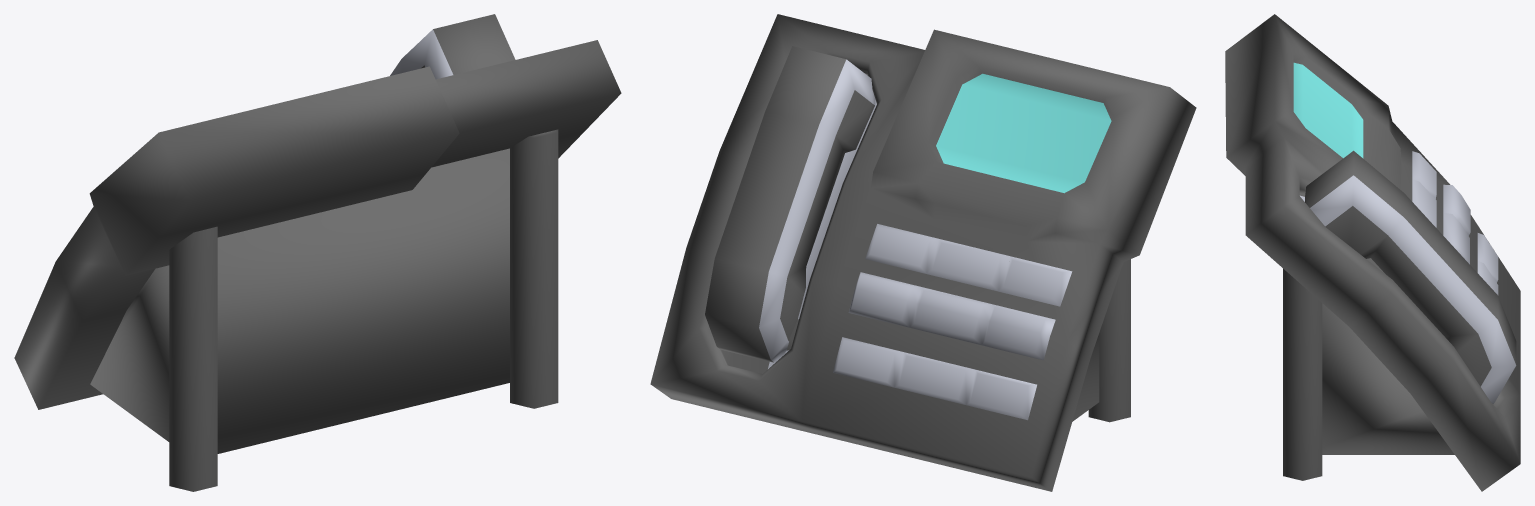
File: phone_01.glb
3 views of the same model, side by side, from view 1: azimuth 30°, elevation 25°; view 2: azimuth 150°, elevation 25°; view 3: azimuth 270°, elevation 25° (orthographic). The views are drawn at different scales.
Parts seen in each view (by area): view 1: mesh_phone_01; view 2: mesh_phone_01; view 3: mesh_phone_01.
Part boxes in pixels (bbox=[...]): mesh_phone_01: bbox=[14, 14, 621, 491]; mesh_phone_01: bbox=[650, 14, 1196, 491]; mesh_phone_01: bbox=[1225, 14, 1520, 491].
Size of the model in its own units: 0.2403 by 0.1926 by 0.1708.
